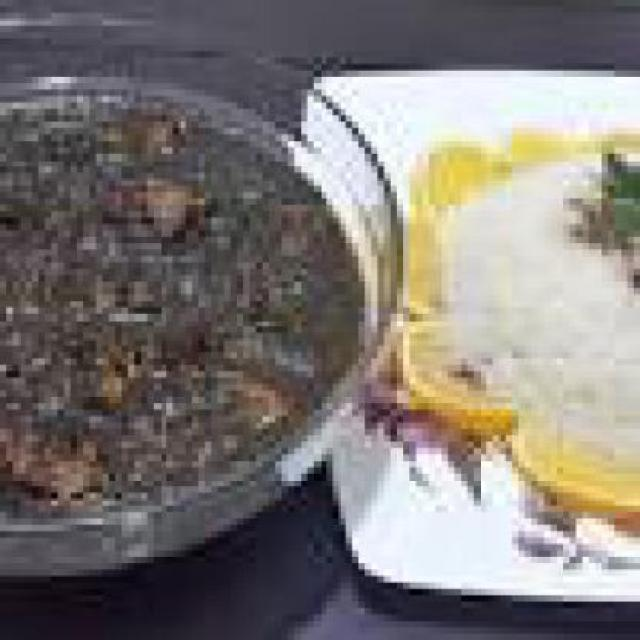fried rice: (403, 96, 634, 518)
